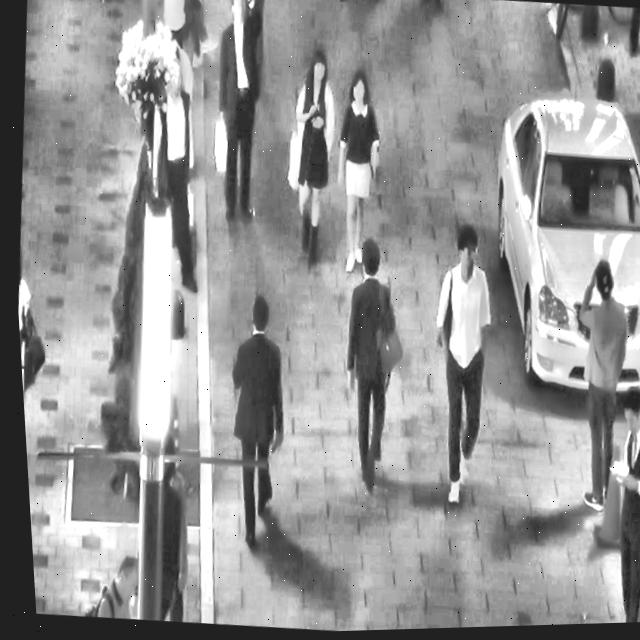light_vehicle: (464, 72, 640, 413)
